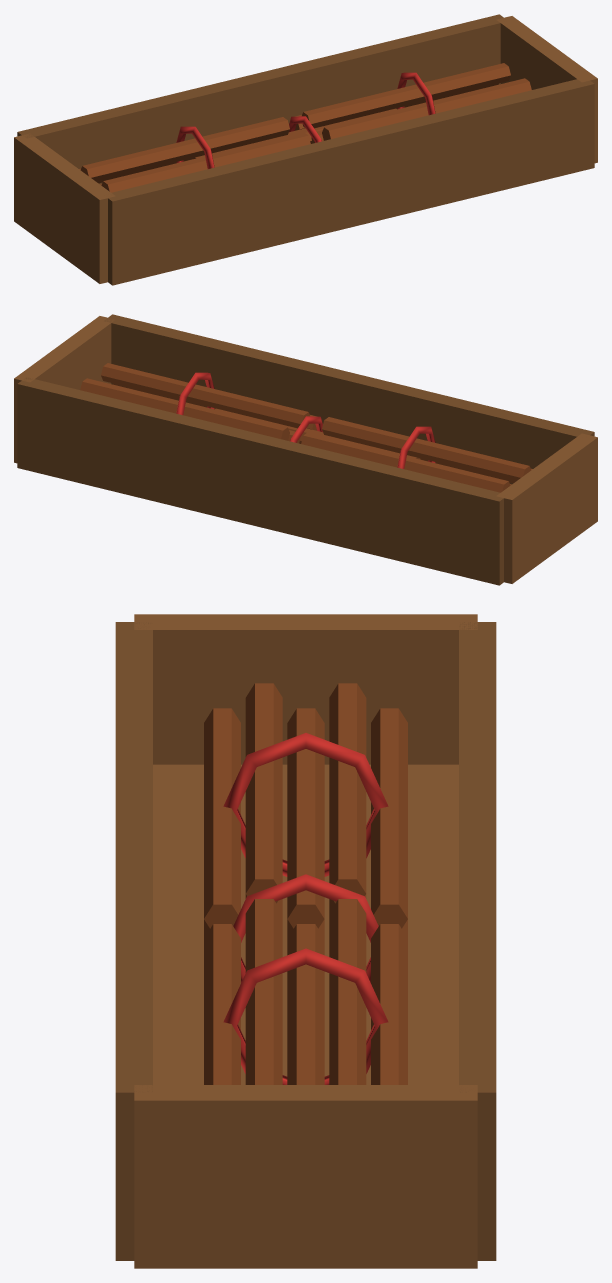
The model's file is Crop_Cinnamon.fbx.
3 views of the same model, one above another, from view 1: azimuth 30°, elevation 25°; view 2: azimuth 150°, elevation 25°; view 3: azimuth 270°, elevation 25° (orthographic). The views are drawn at different scales.
Parts seen in each view (by area): view 1: Crop_Cinnamon__Stack, Crop_Cinnamon; view 2: Crop_Cinnamon__Stack, Crop_Cinnamon; view 3: Crop_Cinnamon__Stack, Crop_Cinnamon.
Boxes of the visible parts, x1,y1,x2,y2 form: Crop_Cinnamon__Stack: (14, 14, 597, 285); Crop_Cinnamon: (191, 108, 396, 159); Crop_Cinnamon__Stack: (14, 314, 597, 585); Crop_Cinnamon: (215, 408, 420, 459); Crop_Cinnamon__Stack: (115, 614, 496, 1268); Crop_Cinnamon: (204, 874, 407, 982).
Size of the model in its own units: 0.248 by 0.044 by 0.082.
